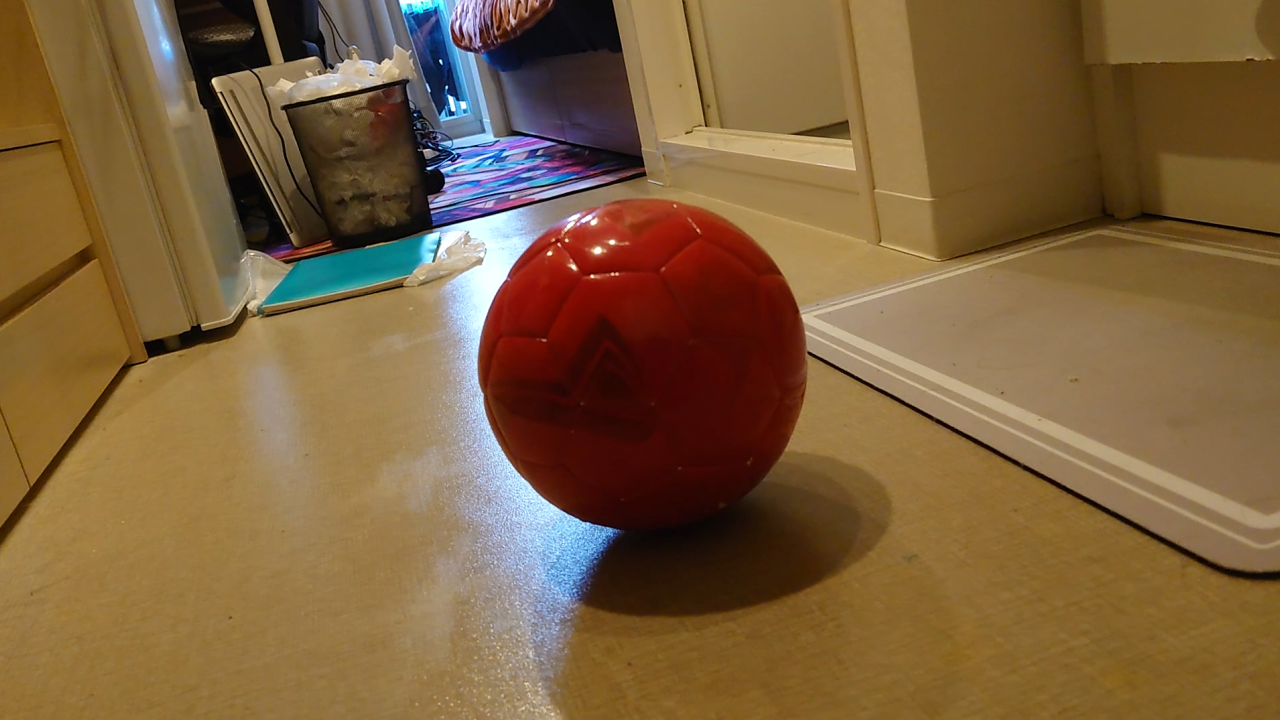red: (473, 197, 807, 538)
